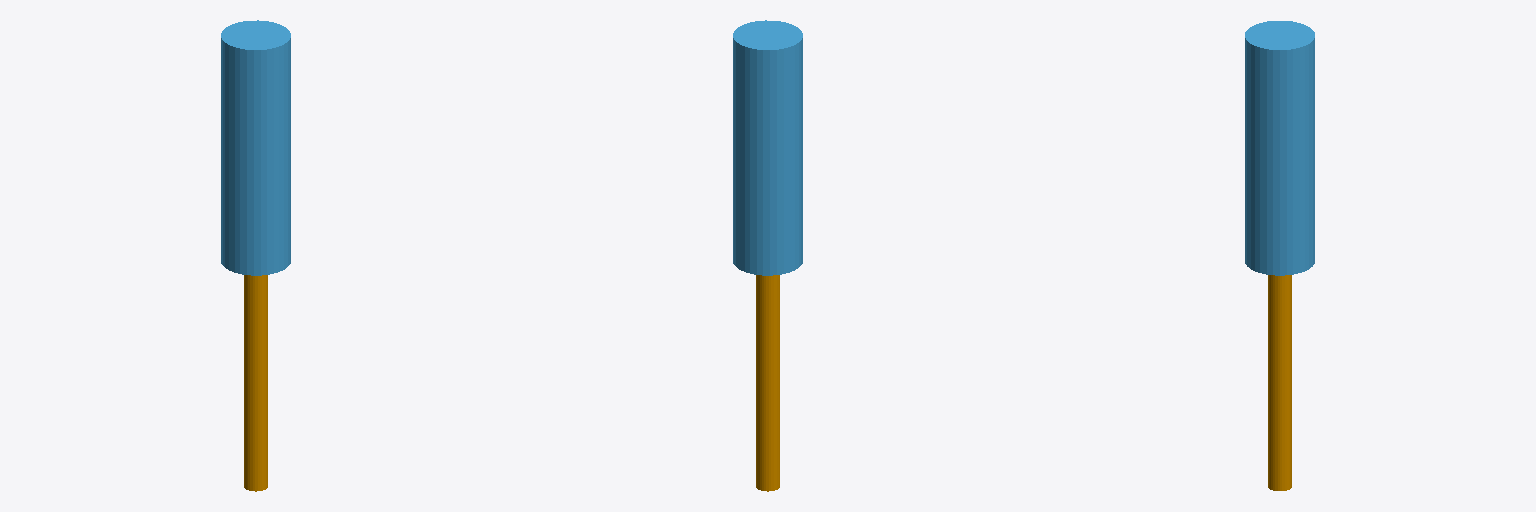
The robot description file, URDF, robot "screwdriver_on_the_table":
<?xml version="1.0" ?>
<!-- this is the one without any virtual joints and links -->
<robot name="screwdriver_on_the_table">
<link name="screwdriver_stick">
    <inertial>
      <mass value="0.05"/>
      <!-- <friction value="1.0"/> -->
      <inertia ixx="0.000041979" ixy="0.0" ixz="0.0" iyy="0.000041979" iyz="0.0" izz="0.000000625"/>
    </inertial>
    <visual>
        <origin rpy="0 0 0" xyz="0 0 0.05"/>
        <geometry>
            <cylinder radius="0.005" length="0.1"/>
        </geometry>
        <!-- <material name="White">
	 	    <color rgba="0.9 0.9 0.9 0.5"/>
        </material> -->
    </visual>
    <collision>
        <origin rpy="0 0 0" xyz="0 0 0.05"/>
        <geometry>
            <cylinder radius="0.005" length="0.1"/>
        </geometry>
    </collision>
</link>

<gazebo reference="screwdriver_body">
    <mu1>0.838336</mu1>
    <mu2>0.806258</mu2>
    <!-- Isaac Sim maps mu1/mu2 to PhysX static/dynamic friction during URDF→USD import -->
</gazebo>

<joint name="screwdriver_stick_body_joint" type="fixed">
    <parent link="screwdriver_stick"/>
    <child link="screwdriver_body"/>
    <origin rpy="0 0 0" xyz="0 0 0.1"/> 
    <axis xyz="0 0 1"/>
</joint>

<link name="screwdriver_body">
    <inertial>
      <mass value="0.078531"/>
      <inertia ixx="0.000069389" ixy="0.0" ixz="0.0" iyy="0.000069389" iyz="0.0" izz="0.000010000"/>
    </inertial>
    <visual>
        <origin rpy="0 0 0" xyz="0 0 0.05"/>
        <geometry>
            <cylinder radius="0.014178" length="0.1"/>
        </geometry>
        <!-- <material name="Red1">
	 	    <color rgba="0.9 0. 0. 0.5"/>
        </material> -->
    </visual>
    <collision>
        <origin rpy="0 0 0" xyz="0 0 0.05"/>
        <geometry>
            <cylinder radius="0.014178" length="0.1"/>
        </geometry>
    </collision>
</link>

<!-- <joint name="screwdriver_body_cap_joint" type="revolute">
    <parent link="screwdriver_body"/>
    <child link="screwdriver_cap"/>
    <origin rpy="0 0 0" xyz="0 0 0.1"/> 
    <axis xyz="0 0 1"/>
</joint>

<link name="screwdriver_cap">
    <inertial>
      <mass value="0.005"/>
      <inertia ixx="0.00001" ixy="0.0" ixz="0.0" iyy="0.000005" iyz="0.0" izz="0.000005"/>
    </inertial>
    <visual>
        <origin rpy="0 0 0" xyz="0 0 0.0006"/>
        <geometry>
            <cylinder radius="0.02" length="0.001"/>
        </geometry>
        <material name="Yellow">
	 	    <color rgba="0.9 0.9 0. 1.0"/>
        </material>
    </visual>
    <collision>
        <origin rpy="0 0 0" xyz="0 0 0.0005"/>
        <geometry>
            <cylinder radius="0.02" length="0.001"/>
        </geometry>
    </collision>
</link> -->

</robot>

--- Render facts (derived) ---
Views: 3 orthographic renders of the robot side by side, from view 1: azimuth 30°, elevation 25°; view 2: azimuth 150°, elevation 25°; view 3: azimuth 270°, elevation 25°.
Model screwdriver_on_the_table with 2 links and 1 joints (1 fixed), rooted at screwdriver_stick, posed every joint at zero.
Visible links, largest first — view 1: screwdriver_body, screwdriver_stick; view 2: screwdriver_body, screwdriver_stick; view 3: screwdriver_body, screwdriver_stick.
Link boxes in pixels (x1,y1,x2,y2): screwdriver_body: (221, 20, 290, 275); screwdriver_stick: (244, 275, 267, 491); screwdriver_body: (733, 20, 802, 275); screwdriver_stick: (756, 275, 779, 491); screwdriver_body: (1245, 21, 1314, 275); screwdriver_stick: (1268, 275, 1291, 490).
Bounding box of the posed robot: 0.0284 × 0.0284 × 0.2 m (x, y, z).
Geometry: primitives only (box / cylinder / sphere), no mesh files.
